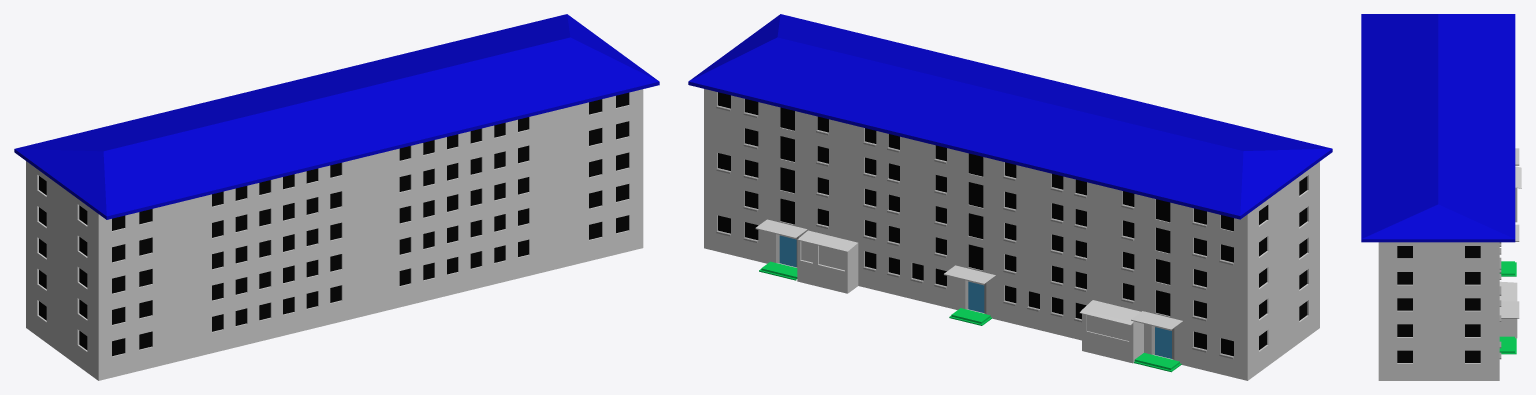
The model's file is SDANIE left.fbx.
The picture shows the model from 3 angles, left to right: view 1: azimuth 30°, elevation 25°; view 2: azimuth 150°, elevation 25°; view 3: azimuth 270°, elevation 25°; orthographic projection. The views are drawn at different scales.
Visible parts, largest first — view 1: Куб.002; view 2: Куб.002; view 3: Куб.002.
Boxes of the visible parts, box(x1,y1,x2,y2) form: Куб.002: box(14, 14, 659, 380); Куб.002: box(688, 14, 1332, 380); Куб.002: box(1361, 14, 1521, 380).
Size of the model in its own units: 1834 by 613 by 553.
